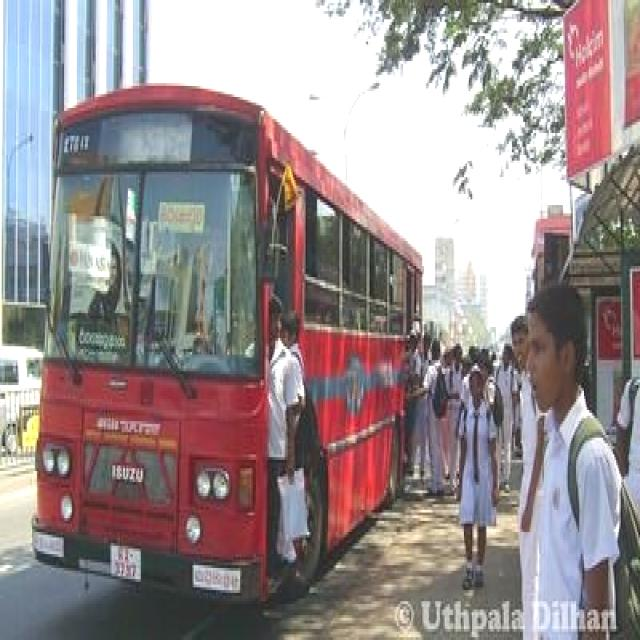Bus: (29, 83, 423, 605)
